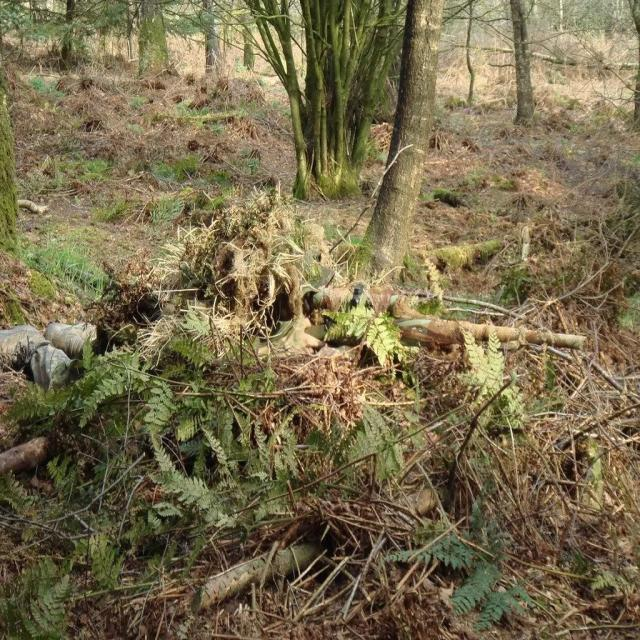Camouflage: (1, 202, 587, 540)
